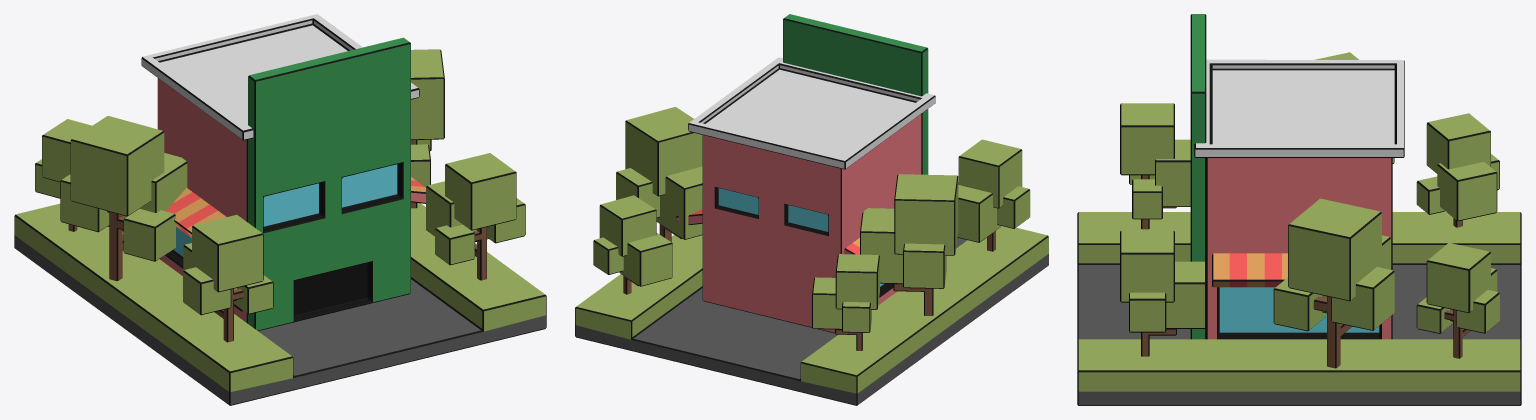
File: Market2.fbx
The picture shows the model from 3 angles, left to right: view 1: azimuth 30°, elevation 25°; view 2: azimuth 150°, elevation 25°; view 3: azimuth 270°, elevation 25°; orthographic projection. The views are drawn at different scales.
Parts seen in each view (by area): view 1: Cube.045; view 2: Cube.045; view 3: Cube.045.
Boxes of the visible parts, bbox=[...] form: Cube.045: bbox=[14, 14, 546, 405]; Cube.045: bbox=[575, 14, 1048, 405]; Cube.045: bbox=[1077, 14, 1521, 405].
Bounding box in the file's own units: 16.02 × 11 × 16.17.
